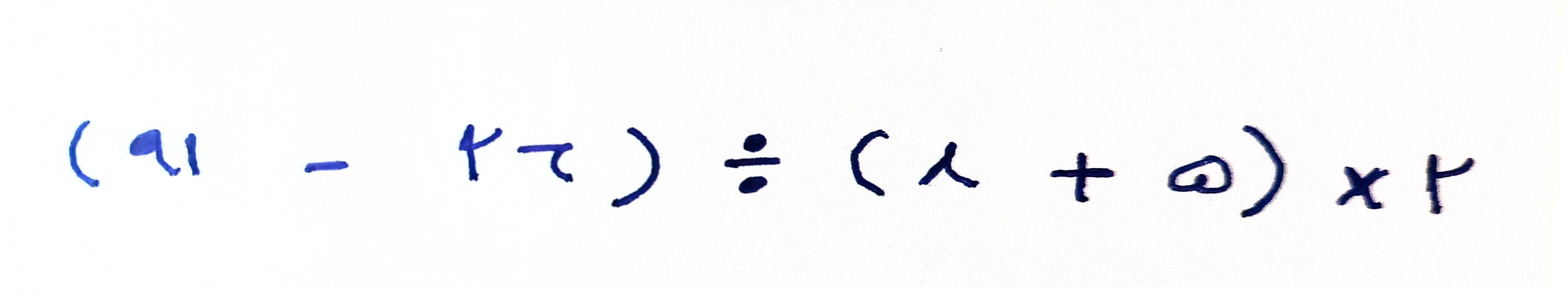character: (1240, 125, 1287, 219), (610, 127, 662, 209), (724, 132, 781, 194), (1052, 152, 1114, 201), (1426, 152, 1474, 214), (920, 140, 978, 191), (1169, 154, 1233, 196), (457, 125, 503, 182), (851, 129, 890, 196), (518, 142, 576, 182), (1337, 166, 1387, 211), (131, 129, 178, 174), (69, 120, 97, 186), (302, 159, 348, 176), (184, 129, 201, 172)
